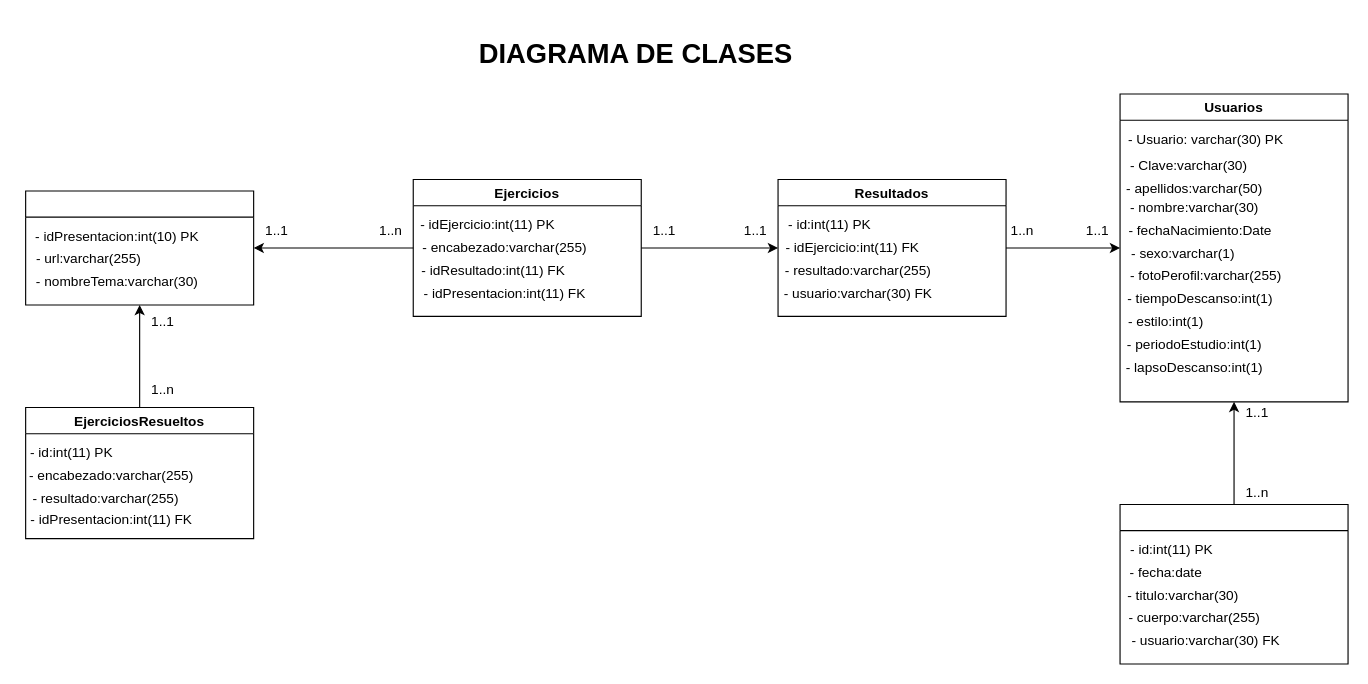
The diagram is 1368 pixels wide and 684 high, and some of its shapes have lost their labels. Here are the shapes that lost their labels. From the top down, the box of each, then its label:
(25, 190, 254, 305): Presentaciones
(1119, 503, 1348, 664): Posts
